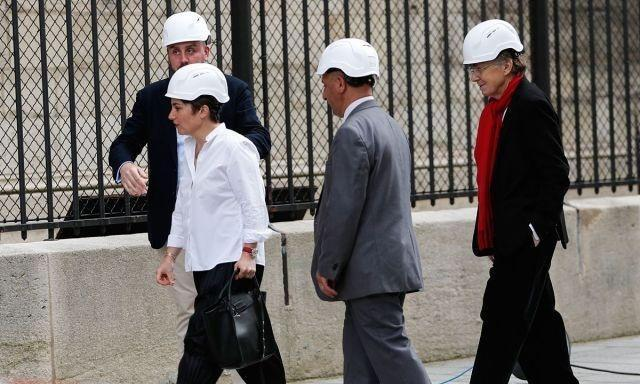helmet: (463, 20, 525, 66), (163, 64, 230, 105), (317, 39, 382, 80), (161, 12, 211, 50)
